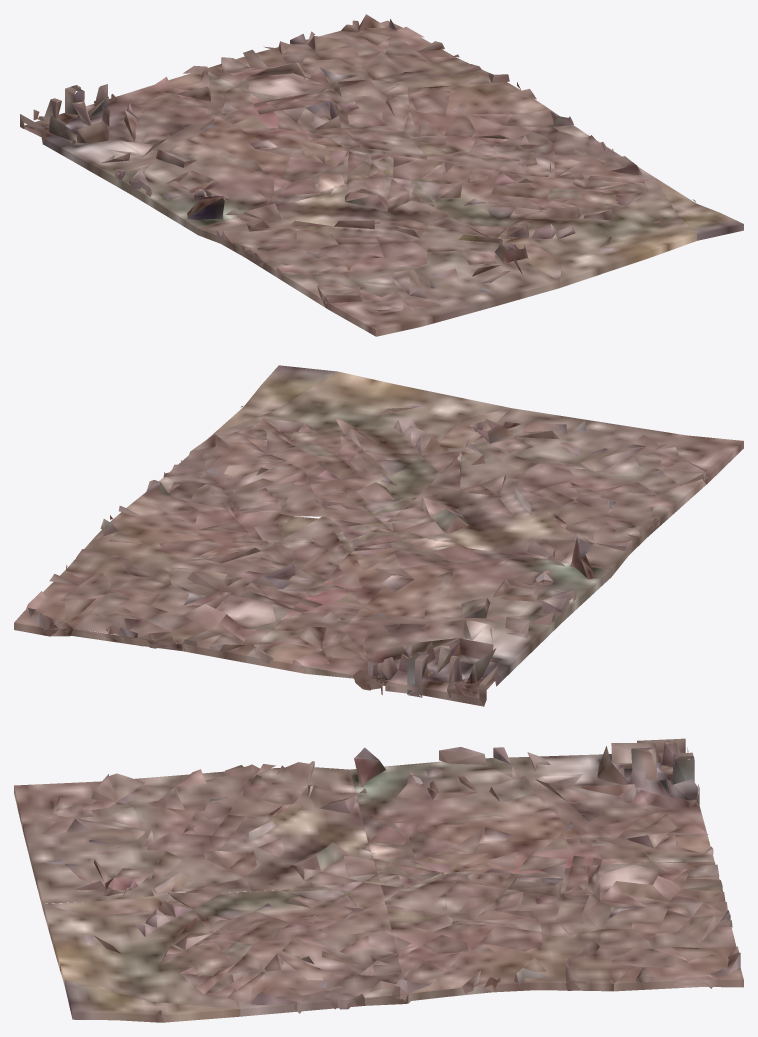
3 renders of one model, top to bottom at view 1: azimuth 30°, elevation 25°; view 2: azimuth 150°, elevation 25°; view 3: azimuth 270°, elevation 25°, orthographic. The views are drawn at different scales.
Parts seen in each view (by area): view 1: Mesh_0; view 2: Mesh_0; view 3: Mesh_0.
Boxes of the visible parts, x1=… form: Mesh_0: x1=20, y1=14, x2=743, y2=336; Mesh_0: x1=14, y1=365, x2=743, y2=706; Mesh_0: x1=14, y1=738, x2=743, y2=1022.
Bounding box in the file's own units: 1079 × 104 × 1318.
Materials: 1 (1 with a texture image).
